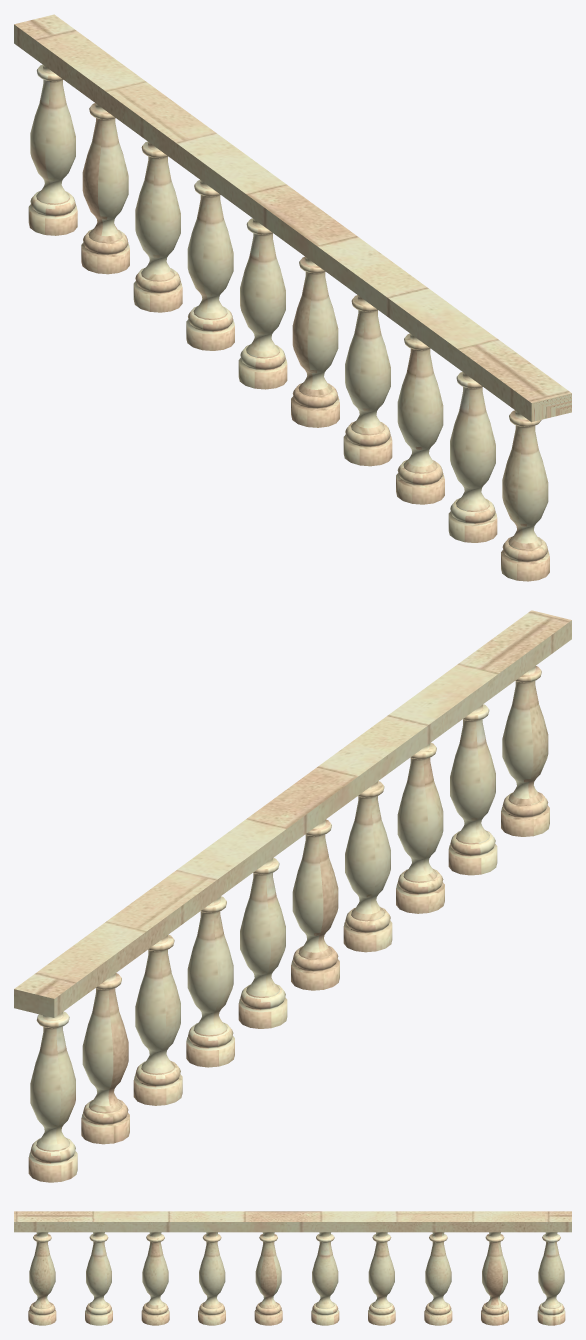
File: SM_railing_02.glb
3 views of the same model, one above another, from view 1: azimuth 30°, elevation 25°; view 2: azimuth 150°, elevation 25°; view 3: azimuth 270°, elevation 25° (orthographic). The views are drawn at different scales.
Visible parts, largest first — view 1: SM_railing_02; view 2: SM_railing_02; view 3: SM_railing_02.
Boxes of the visible parts, left/top/right/bottom form: SM_railing_02: left=14, top=14, right=571, bottom=581; SM_railing_02: left=14, top=610, right=571, bottom=1182; SM_railing_02: left=14, top=1211, right=571, bottom=1325.
Size of the model in its own units: 0.2 by 0.9 by 4.4.
1 material, 1 textured.
